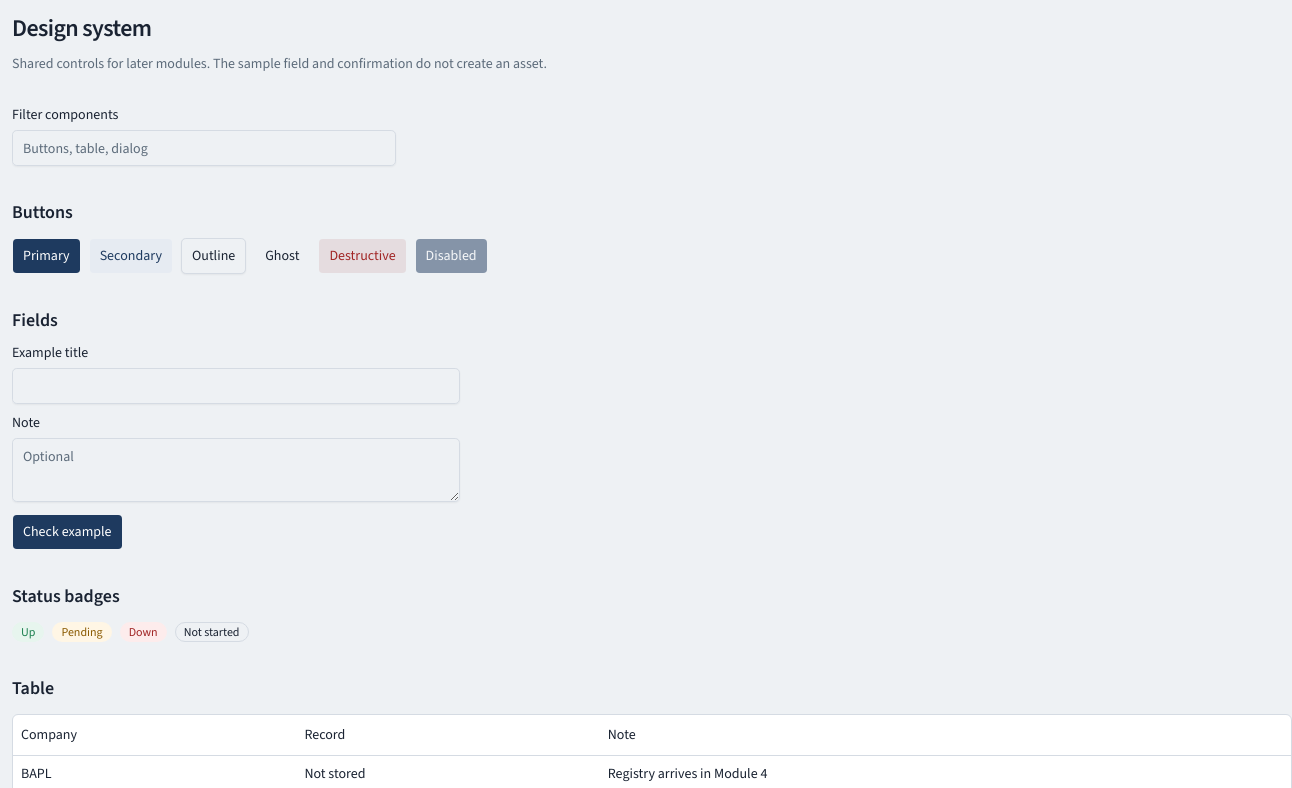
Test case: DesignSystemPage › shows a validation error and then accepts a title
Click the button "Check example": x=67, y=532 [12,514,123,550]
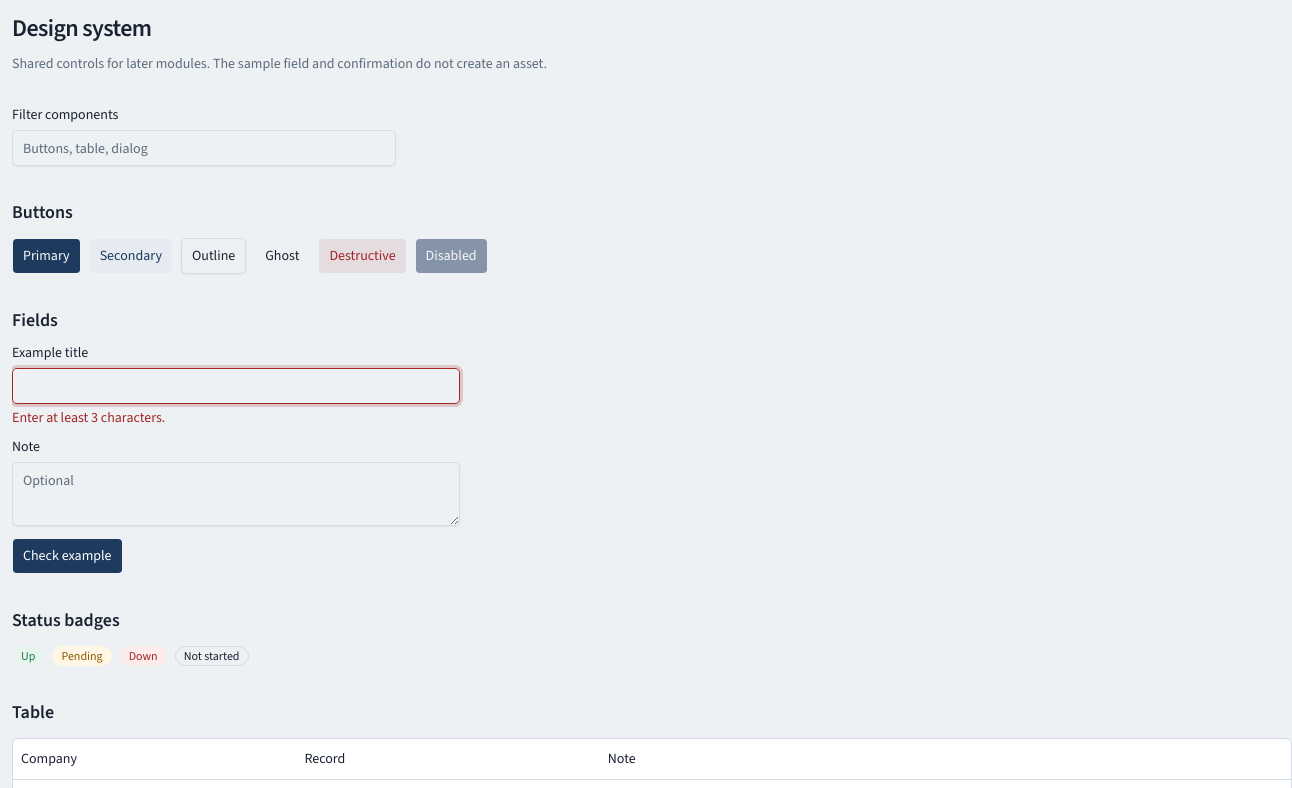
Result: the text "Enter at least 3 characters." is shown at [12,408,165,427]
In the field labelled "Example title": x=236, y=386 [12,368,460,404], type "Poster"
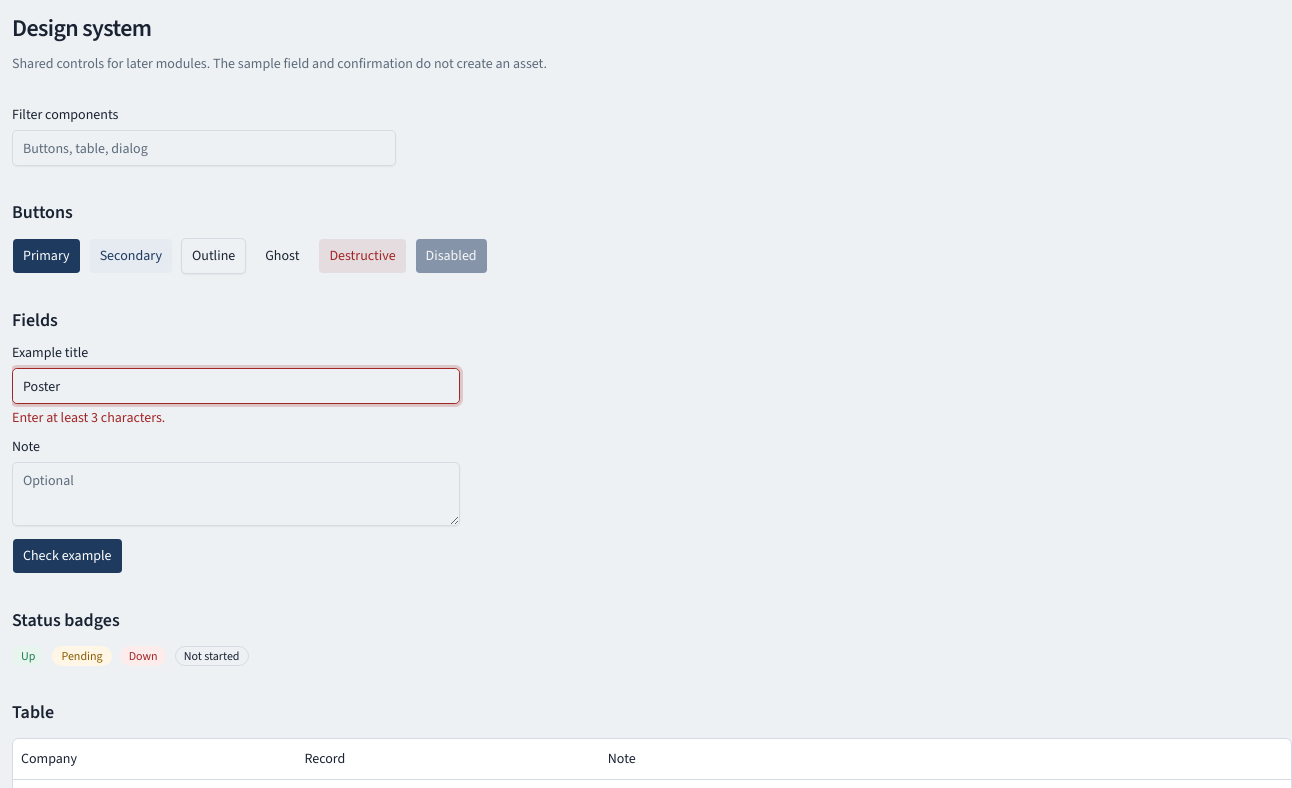
Click the button "Check example": x=67, y=556 [12,538,123,574]
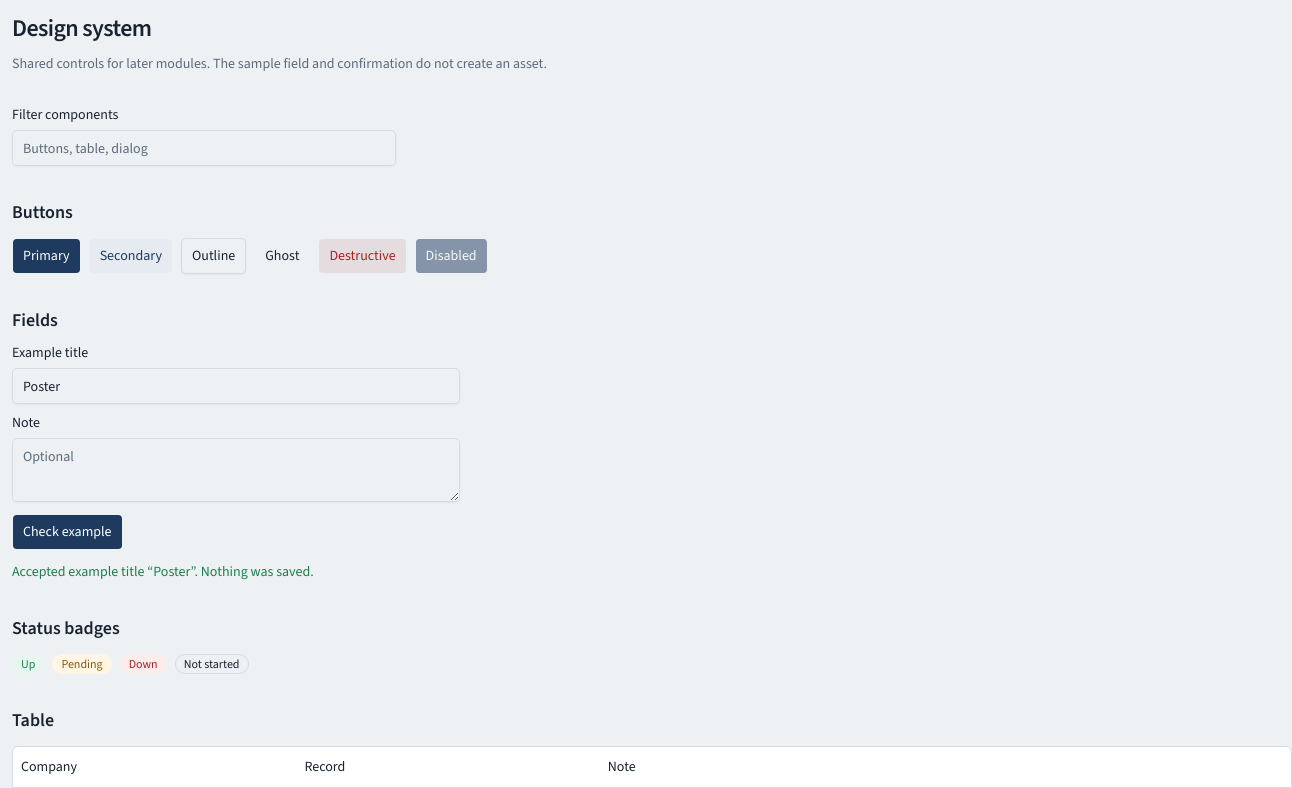
Result: the text "Accepted example title “Poster”. Nothing was saved." is shown at [12,562,314,581]
